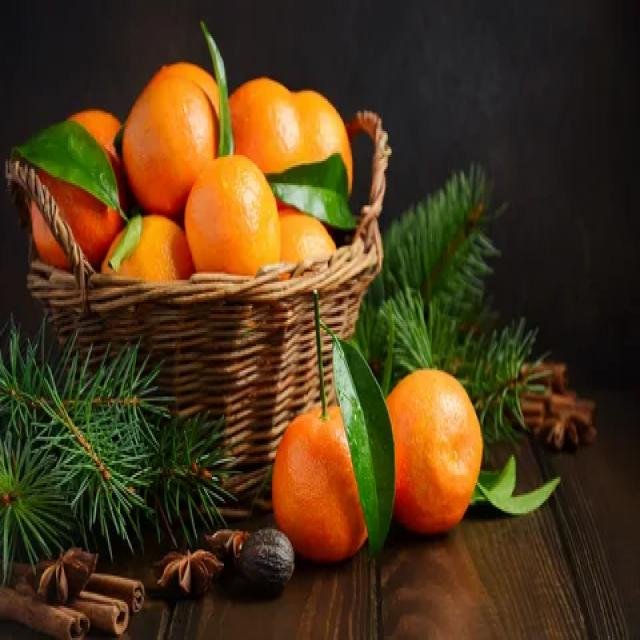orange: (266, 392, 388, 568), (119, 66, 225, 220)
